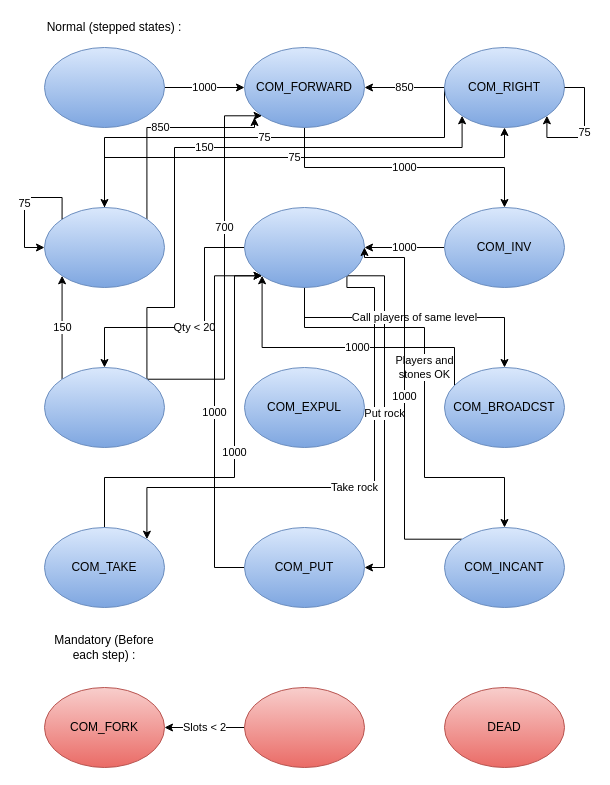
This 610x785 diagram has some shape labels left out. The shapes that lost their labels are listed below. From the top down, each one's centre as x and y in pixels, then its label:
pixel 104 87: Initial state
pixel 104 247: COM_LEFT
pixel 304 247: COM_SEE
pixel 104 407: TAKEFOOD if necessary
pixel 304 727: COM_SLOT
